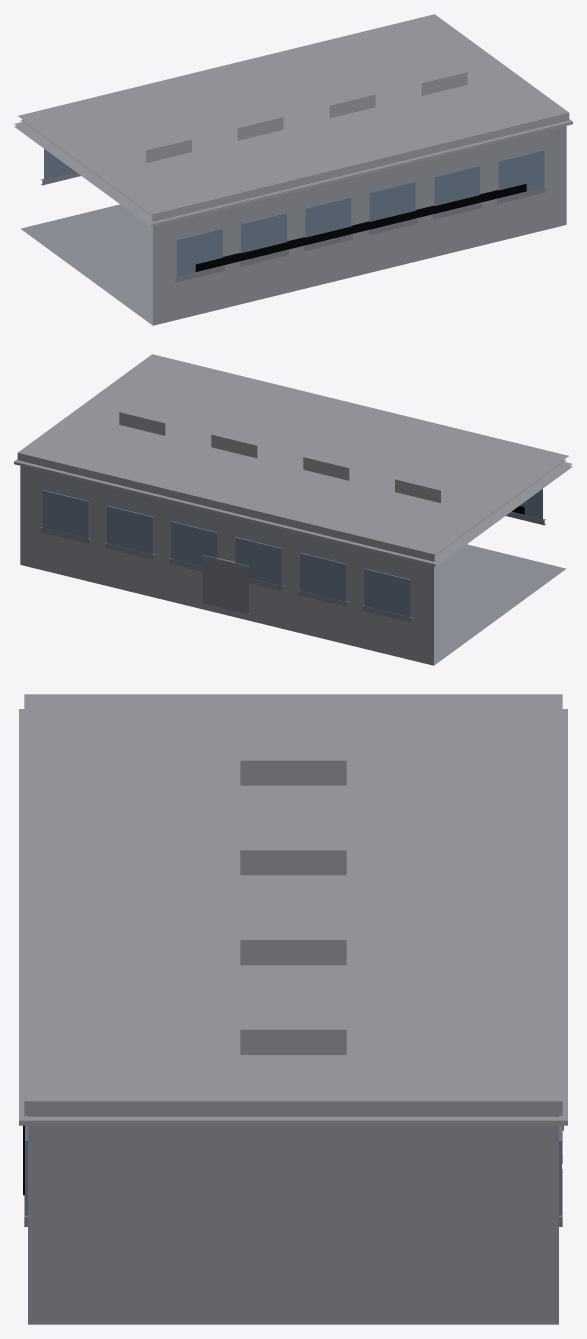
Rendered from data_center.glb.
The picture shows the model from 3 angles, top to bottom: view 1: azimuth 30°, elevation 25°; view 2: azimuth 150°, elevation 25°; view 3: azimuth 270°, elevation 25°; orthographic projection. The views are drawn at different scales.
Parts seen in each view (by area): view 1: data_center; view 2: data_center; view 3: data_center.
Part boxes in pixels (x1,y1,x2,y2): data_center: (14, 14, 572, 325); data_center: (14, 354, 572, 665); data_center: (19, 694, 567, 1324).
Bounding box in the file's own units: 36.7 × 10.4 × 20.7.
